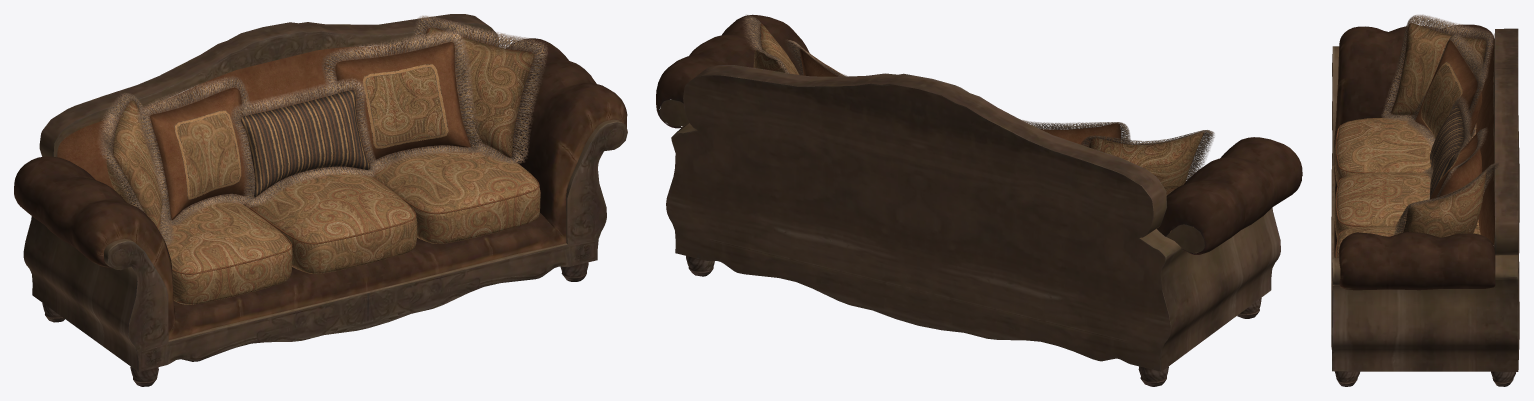
The model's file is leathersofa.glb.
3 views of the same model, side by side, from view 1: azimuth 30°, elevation 25°; view 2: azimuth 150°, elevation 25°; view 3: azimuth 270°, elevation 25° (orthographic). The views are drawn at different scales.
Visible parts, largest first — view 1: Frame, Paisley, Fringe, Brown, Stripes, Frame_Fabric; view 2: Frame, Paisley, Fringe, Brown; view 3: Frame, Paisley, Fringe, Brown, Frame_Fabric, Stripes.
Part boxes in pixels (x1=…): Frame: x1=14, y1=14, x2=627, y2=386; Paisley: x1=106, y1=27, x2=540, y2=304; Fringe: x1=98, y1=15, x2=547, y2=246; Brown: x1=150, y1=42, x2=539, y2=274; Stripes: x1=174, y1=64, x2=448, y2=199; Frame_Fabric: x1=57, y1=34, x2=494, y2=189; Frame: x1=656, y1=14, x2=1302, y2=386; Paisley: x1=753, y1=23, x2=1204, y2=231; Fringe: x1=743, y1=15, x2=1214, y2=181; Brown: x1=799, y1=47, x2=1120, y2=146; Frame: x1=1331, y1=24, x2=1519, y2=386; Paisley: x1=1334, y1=23, x2=1486, y2=257; Fringe: x1=1381, y1=14, x2=1498, y2=234; Brown: x1=1336, y1=40, x2=1482, y2=257; Frame_Fabric: x1=1476, y1=39, x2=1494, y2=245; Stripes: x1=1421, y1=61, x2=1471, y2=198.
Bounding box in the file's own units: 2.73 × 1.12 × 0.9225.
Materials: 6 (6 with a texture image).
